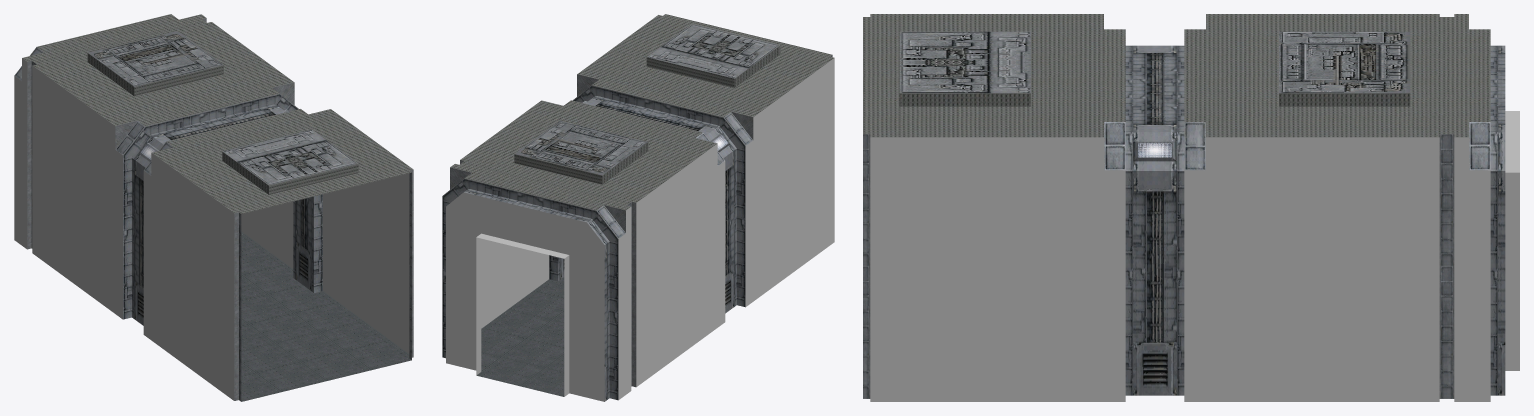
The model's file is poi_all_impl_bunker_small_outpost_s01_r33_hall7_mesh.fbx.
3 renders of one model, left to right at view 1: azimuth 30°, elevation 25°; view 2: azimuth 150°, elevation 25°; view 3: azimuth 270°, elevation 25°, orthographic. The views are drawn at different scales.
Parts seen in each view (by area): view 1: mesh_node; view 2: mesh_node; view 3: mesh_node.
Boxes of the visible parts, bbox=[...] form: mesh_node: bbox=[14, 14, 413, 401]; mesh_node: bbox=[442, 14, 834, 401]; mesh_node: bbox=[863, 14, 1519, 401].
Size of the model in its own units: 4 by 4.2 by 9.
